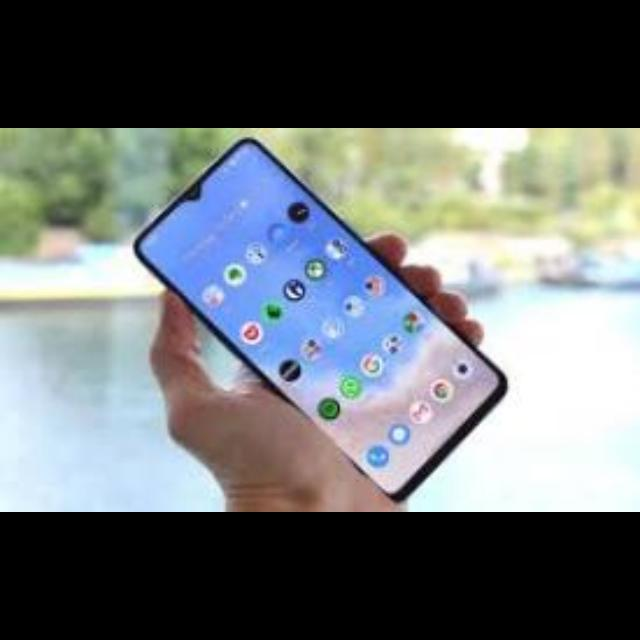PhoneUse: (125, 138, 513, 490)
SafeDriving: (240, 235, 274, 270)
